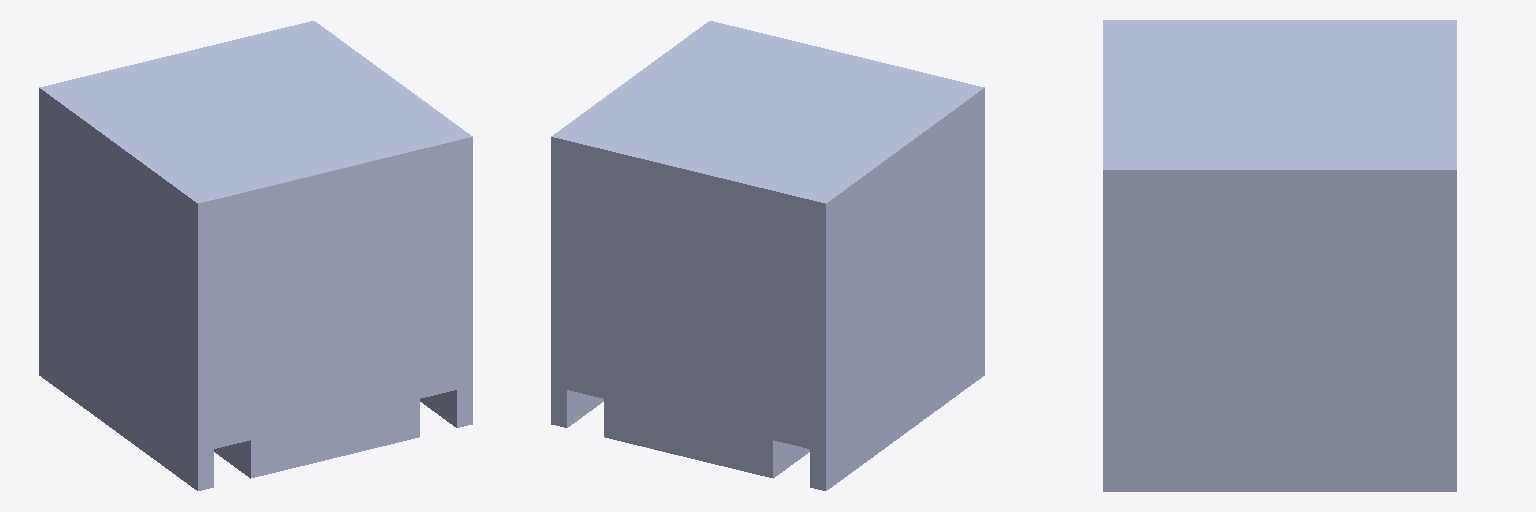
URDF robot description (pot):
<?xml version="1.0" encoding="utf-8"?>
<!-- This URDF was automatically created by SolidWorks to URDF Exporter! Originally created by [author] ([email redacted]) 
     Commit Version: 1.5.1-0-g916b5db  Build Version: 1.5.7152.31018
     For more information, please see http://wiki.ros.org/sw_urdf_exporter -->
<robot
  name="pot">
  <link
    name="pot">
    <inertial>
      <origin
        xyz="-1.3739E-06 8.80599063571704E-18 0.03096"
        rpy="0 0 0" />
      <mass
        value="0.20831" />
      <inertia
        ixx="0.00012186"
        ixy="7.12620209949628E-21"
        ixz="-6.567E-09"
        iyy="0.00012023"
        iyz="2.8161508943732E-21"
        izz="0.00012336" />
    </inertial>
    <visual>
      <origin
        xyz="0 0 0"
        rpy="1.5707963267949 0 0" />
      <geometry>
        <mesh
          filename="package://pot/meshes/pot.STL" />
      </geometry>
      <material
        name="">
        <color
          rgba="0.79216 0.81961 0.93333 1" />
        <texture
          filename="package://pot/textures/" />
      </material>
    </visual>
    <collision>
      <origin
        xyz="0 0 0"
        rpy="1.5707963267949 0 0" />
      <geometry>
        <mesh
          filename="package://pot/meshes/pot.STL" />
      </geometry>
    </collision>
  </link>
</robot>

--- Facts derived from the render (not from the file) ---
Views: 3 orthographic renders of the robot side by side, from view 1: azimuth 30°, elevation 25°; view 2: azimuth 150°, elevation 25°; view 3: azimuth 270°, elevation 25°.
Model pot with 1 links and 0 joints (none), rooted at pot, posed every joint at zero.
Links seen in each view (by area): view 1: pot; view 2: pot; view 3: pot.
Link boxes in pixels (left/top/right/bottom): pot: left=39, top=21, right=472, bottom=490; pot: left=551, top=21, right=984, bottom=490; pot: left=1103, top=20, right=1456, bottom=491.
Bounding box of the posed robot: 0.06 × 0.06 × 0.06 m (x, y, z).
Meshes: 1 distinct files referenced, 1 mesh visuals loaded (1 binary STL).